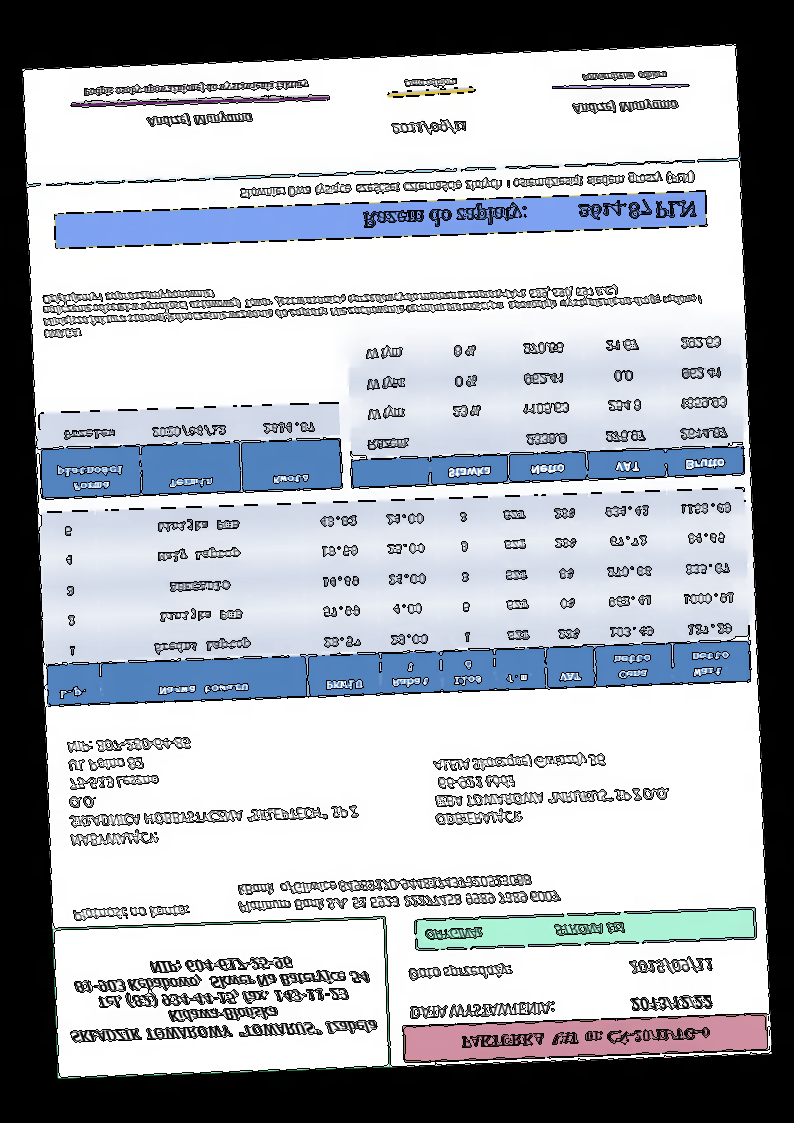Table: (39, 486, 752, 708), (344, 319, 747, 492), (37, 401, 344, 501)
TextBox: (40, 269, 707, 342), (64, 727, 363, 852), (65, 949, 382, 1048), (431, 746, 672, 830), (237, 165, 696, 204), (234, 869, 562, 916), (360, 194, 699, 234), (457, 1024, 711, 1053), (422, 919, 627, 946), (81, 78, 310, 99), (406, 997, 554, 1025), (406, 960, 514, 986), (70, 902, 191, 925), (142, 109, 258, 130), (626, 953, 715, 979), (570, 96, 679, 116), (627, 991, 714, 1015), (387, 117, 469, 139), (579, 68, 668, 85), (401, 73, 460, 92)
